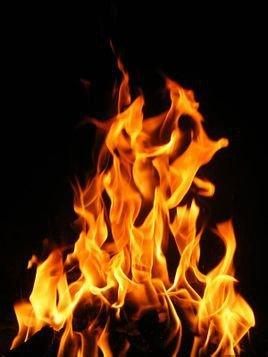fire: (86, 111, 237, 351)
